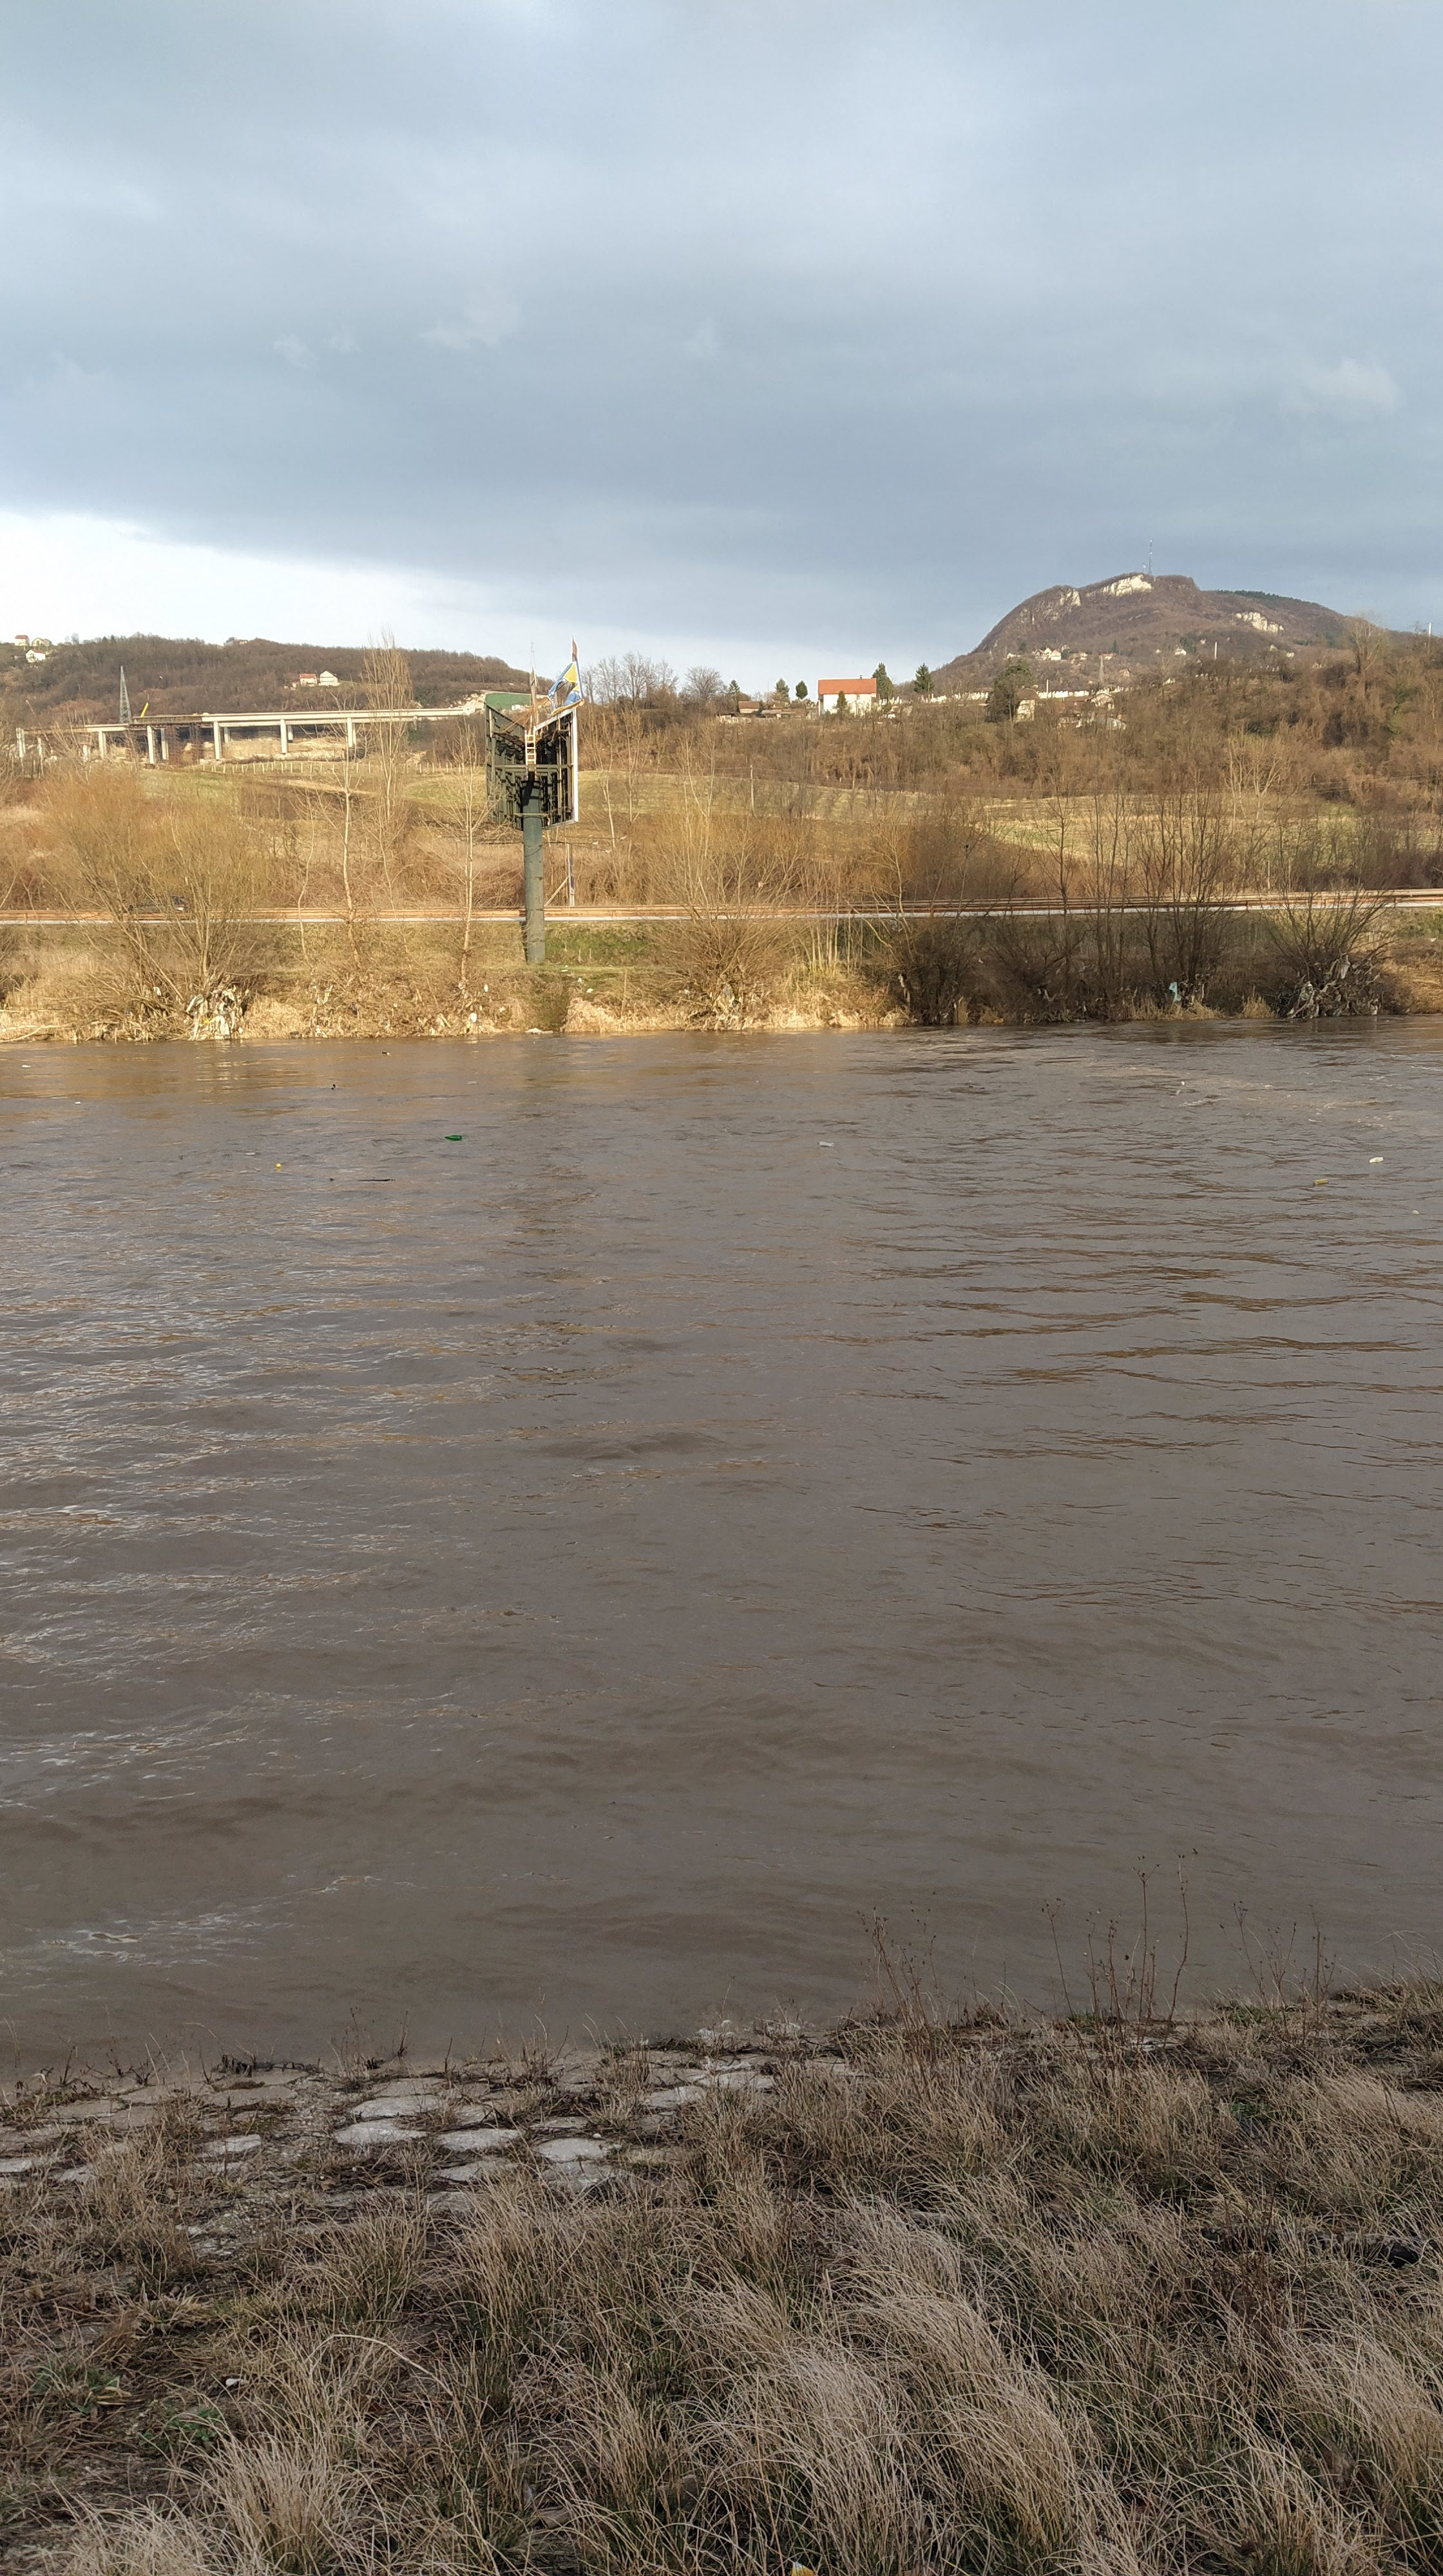Plastic Bottle: (1369, 1155, 1385, 1162), (816, 1141, 834, 1146), (444, 1134, 460, 1139), (1314, 1178, 1328, 1184), (244, 1152, 253, 1155), (21, 1065, 28, 1069), (382, 1051, 390, 1054), (469, 1081, 476, 1083)
